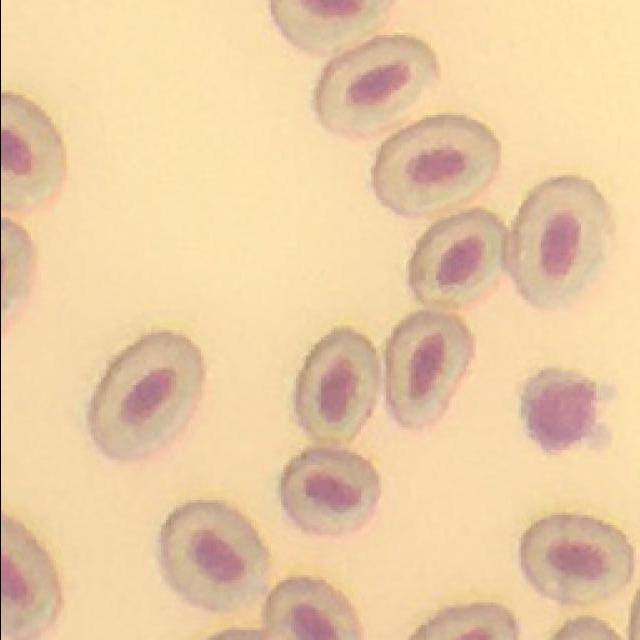RBC: (91, 334, 201, 458), (507, 178, 611, 305), (374, 116, 498, 215), (317, 36, 436, 136), (161, 502, 266, 610), (521, 515, 632, 602), (387, 312, 471, 426), (297, 330, 379, 440), (410, 211, 505, 305), (281, 450, 379, 534), (0, 516, 60, 640), (0, 94, 64, 208), (272, 0, 394, 52), (265, 579, 359, 640), (411, 605, 516, 640)
WBC: (528, 382, 594, 450)
